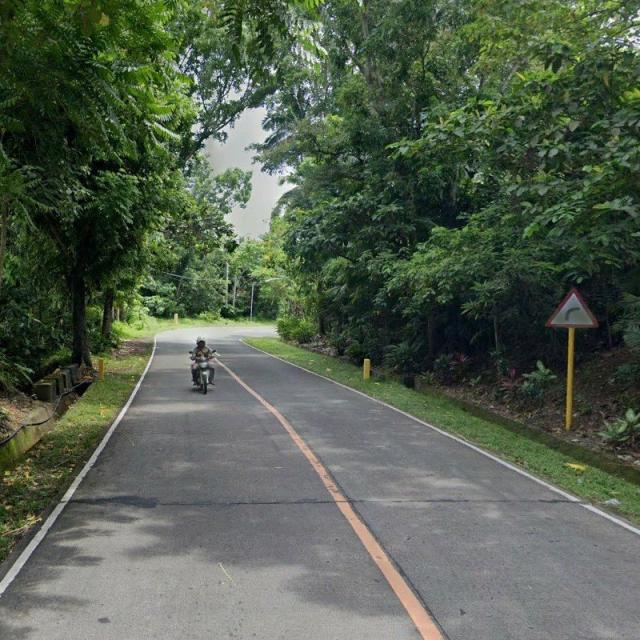warn_right_curve: (545, 286, 598, 329)
